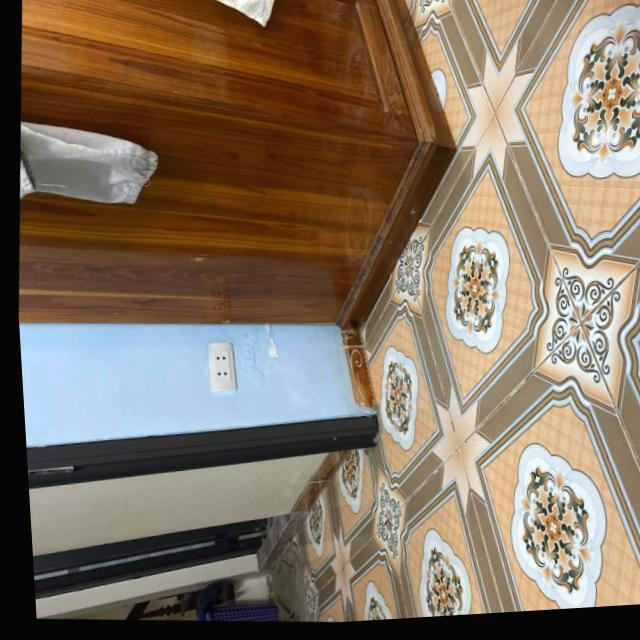outlet: (203, 338, 239, 393)
